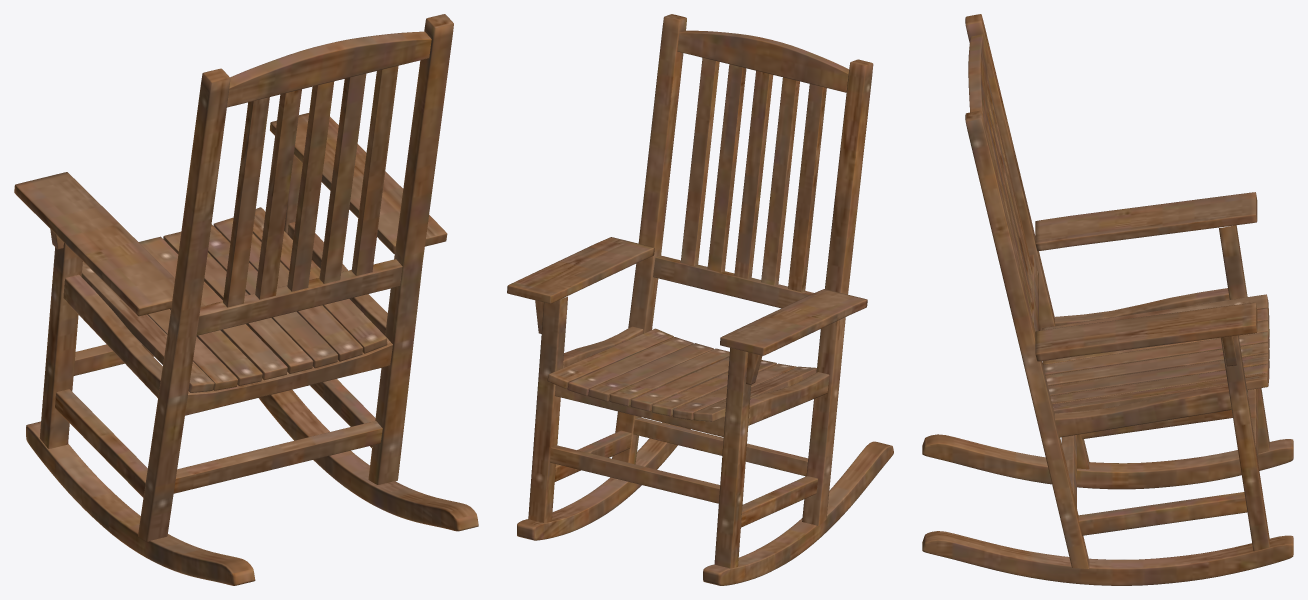
File: Chair46.glb
The picture shows the model from 3 angles, left to right: view 1: azimuth 30°, elevation 25°; view 2: azimuth 150°, elevation 25°; view 3: azimuth 270°, elevation 25°; orthographic projection. The views are drawn at different scales.
Visible parts, largest first — view 1: Chair46_model; view 2: Chair46_model; view 3: Chair46_model.
Boxes of the visible parts, bbox=[...] form: Chair46_model: bbox=[14, 14, 478, 585]; Chair46_model: bbox=[507, 14, 893, 585]; Chair46_model: bbox=[922, 14, 1293, 585].
Bounding box in the file's own units: 1.35 × 2.2 × 1.58.
Materials: 1 (1 with a texture image).
